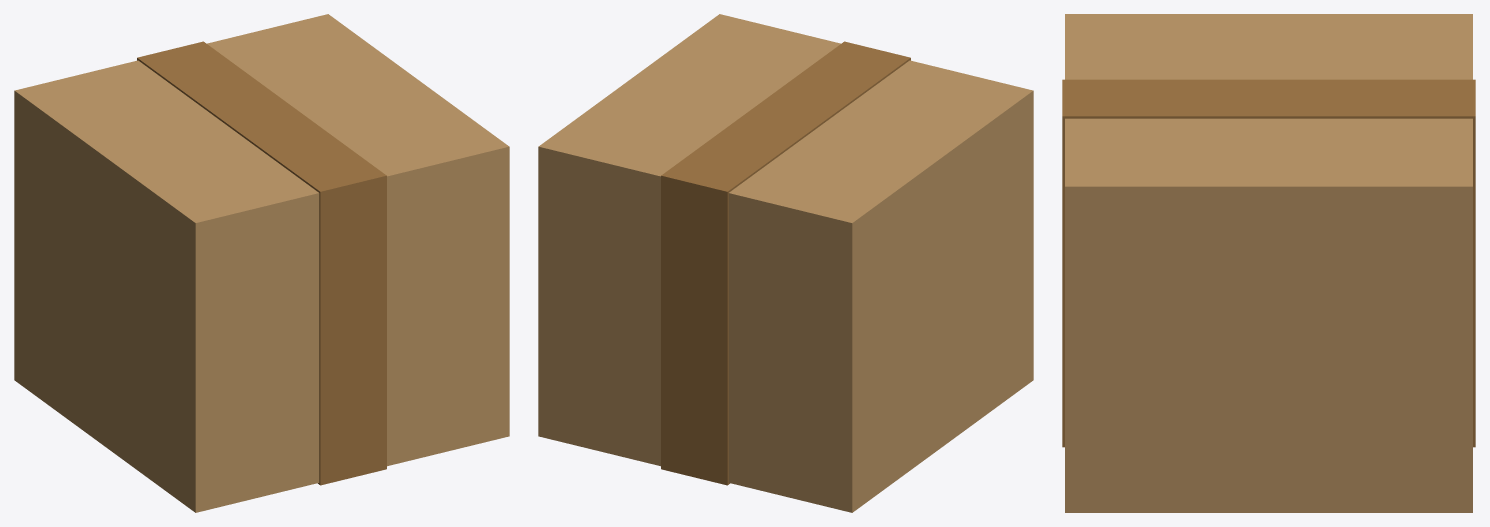
Rendered from package.glb.
3 views of the same model, side by side, from view 1: azimuth 30°, elevation 25°; view 2: azimuth 150°, elevation 25°; view 3: azimuth 270°, elevation 25° (orthographic). The views are drawn at different scales.
Size of the model in its own units: 0.85 by 0.76 by 0.86.
